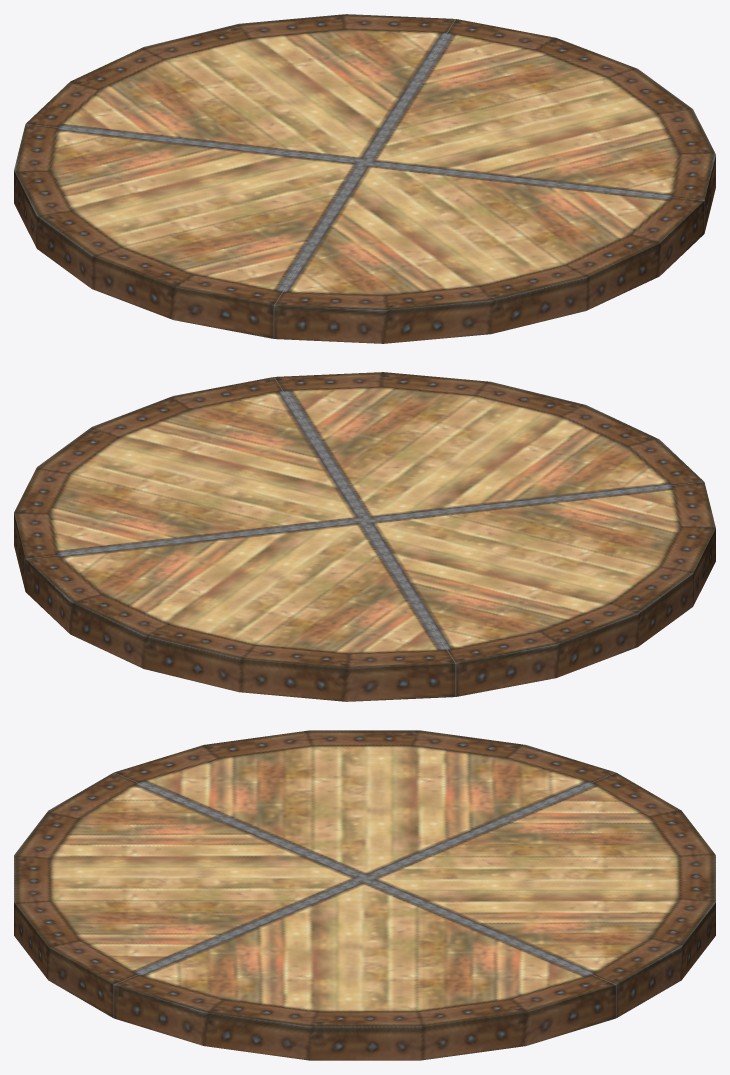
Rendered from P_Modul_03_Floor.obj.
3 views of the same model, one above another, from view 1: azimuth 30°, elevation 25°; view 2: azimuth 150°, elevation 25°; view 3: azimuth 270°, elevation 25° (orthographic).
Parts seen in each view (by area): view 1: P_Modul_03_Floor; view 2: P_Modul_03_Floor; view 3: P_Modul_03_Floor.
Part boxes in pixels (bbox=[...]): P_Modul_03_Floor: bbox=[14, 14, 715, 343]; P_Modul_03_Floor: bbox=[14, 372, 715, 701]; P_Modul_03_Floor: bbox=[14, 730, 715, 1060].
Size of the model in its own units: 19.76 by 1.04 by 19.76.
